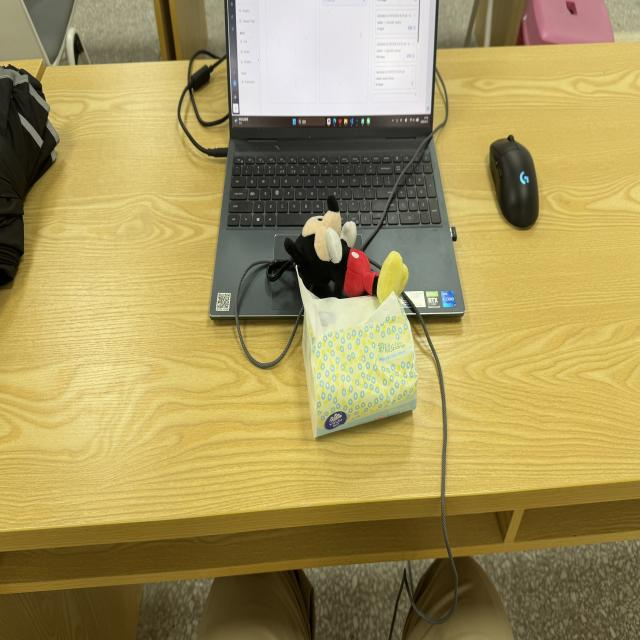mickey: (285, 197, 408, 302)
tissue: (296, 265, 418, 437)
